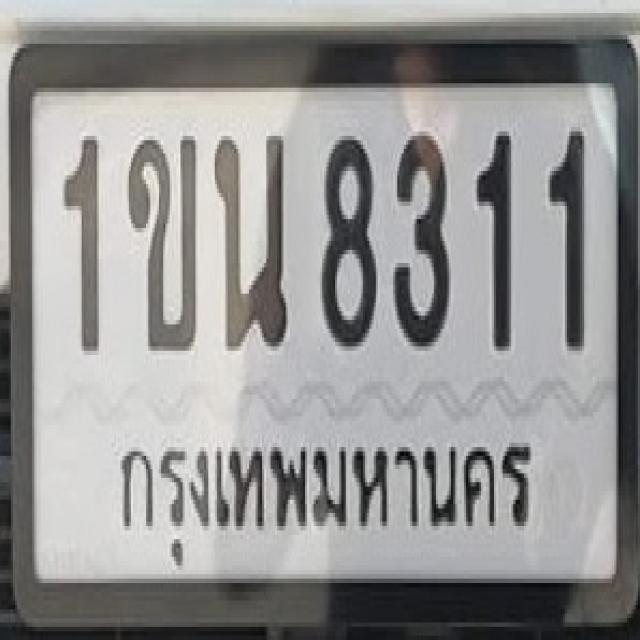license_plate: (8, 35, 640, 627)
